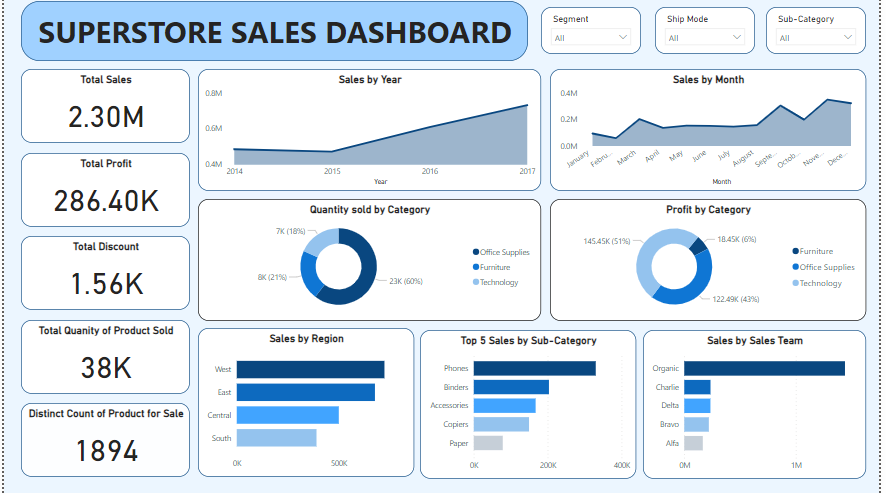

The dashboard page shown, as its layout file describes it:
{"tool":"powerbi","page":{"name":"Page 1","canvas":[1400,800],"ordinal":0},"visuals":[{"type":"card","title":"Total Sales","fields":{"Values":["Sum(Sales.Sales)"]},"box":[27.2,120,270.4,118.4],"z":0},{"type":"card","title":"Total Profit","fields":{"Values":["Sum(Sales.Profit)"]},"box":[27.2,254.4,270.4,118],"z":1000},{"type":"card","title":"Total Quanity of Product Sold","fields":{"Values":["Sum(Sales.Quantity)"]},"box":[27.2,521.6,270.4,118],"z":2000},{"type":"card","title":"Total Discount","fields":{"Values":["Sum(Sales.Discount)"]},"box":[27.2,387.2,270.4,118.4],"z":3000},{"type":"clusteredBarChart","title":"Sales by Region","fields":{"Category":["Locations.Region"],"Y":["Sum(Sales.Sales)"]},"box":[310.4,534.4,345.6,238.4],"z":4000},{"type":"donutChart","title":"Quantity sold by Category","fields":{"Category":["Products.Category"],"Y":["Sum(Sales.Quantity)"]},"box":[310.4,328,548.8,195],"z":5000},{"type":"areaChart","title":"Sales by Year","fields":{"Category":["Sales.Order Date.Variation.Date Hierarchy.Year"],"Y":["Sum(Sales.Sales)"]},"box":[310.4,120,548.8,195.2],"z":6000},{"type":"areaChart","title":"Sales by Month","fields":{"Category":["Sales.Order Date.Variation.Date Hierarchy.Month"],"Y":["Sum(Sales.Sales)"]},"box":[873.6,120,505.6,195.2],"z":7000},{"type":"donutChart","title":"Profit by Category","fields":{"Category":["Products.Category"],"Y":["Sum(Sales.Profit)"]},"box":[873.6,328,505.6,195],"z":8000},{"type":"barChart","title":"Sales by Sales Team","fields":{"Category":["Sales Reps.Sales Team"],"Y":["Sum(Sales.Sales)"]},"box":[1022.4,537.6,356.8,238.4],"z":9000},{"type":"card","title":"Distinct Count of Product for Sale","fields":{"Values":["Products.Numofproducts"]},"box":[27.2,654.4,270.4,118.4],"z":10000},{"type":"textbox","box":[27.2,11.2,811.2,96],"z":11000},{"type":"slicer","fields":{"Values":["Customers.Segment"]},"box":[859.2,20.8,160,75.2],"z":12000},{"type":"slicer","fields":{"Values":["Sales.Ship Mode"]},"box":[1041.6,20.8,160,75.2],"z":13000},{"type":"slicer","fields":{"Values":["Products.Sub-Category"]},"box":[1219.2,20.8,160,75.2],"z":14000},{"type":"clusteredBarChart","title":"Top 5 Sales by Sub-Category","fields":{"Category":["Products.Sub-Category"],"Y":["Sum(Sales.Sales)"]},"box":[665.6,537.6,345.6,238],"z":15000}]}

Visuals, with their boxes in screenshot pixels (x1, y1, x2, y2), scaled from the page's 1400x800 canvas onto the 886x493 screenshot:
"Total Sales" card: x1=17 y1=74 x2=188 y2=147
"Total Profit" card: x1=17 y1=157 x2=188 y2=229
"Total Quanity of Product Sold" card: x1=17 y1=321 x2=188 y2=394
"Total Discount" card: x1=17 y1=239 x2=188 y2=312
"Sales by Region" clusteredBarChart: x1=196 y1=329 x2=415 y2=476
"Quantity sold by Category" donutChart: x1=196 y1=202 x2=544 y2=322
"Sales by Year" areaChart: x1=196 y1=74 x2=544 y2=194
"Sales by Month" areaChart: x1=553 y1=74 x2=873 y2=194
"Profit by Category" donutChart: x1=553 y1=202 x2=873 y2=322
"Sales by Sales Team" barChart: x1=647 y1=331 x2=873 y2=478
"Distinct Count of Product for Sale" card: x1=17 y1=403 x2=188 y2=476
textbox: x1=17 y1=7 x2=531 y2=66
slicer - Customers.Segment: x1=544 y1=13 x2=645 y2=59
slicer - Sales.Ship Mode: x1=659 y1=13 x2=760 y2=59
slicer - Products.Sub-Category: x1=772 y1=13 x2=873 y2=59
"Top 5 Sales by Sub-Category" clusteredBarChart: x1=421 y1=331 x2=640 y2=478
